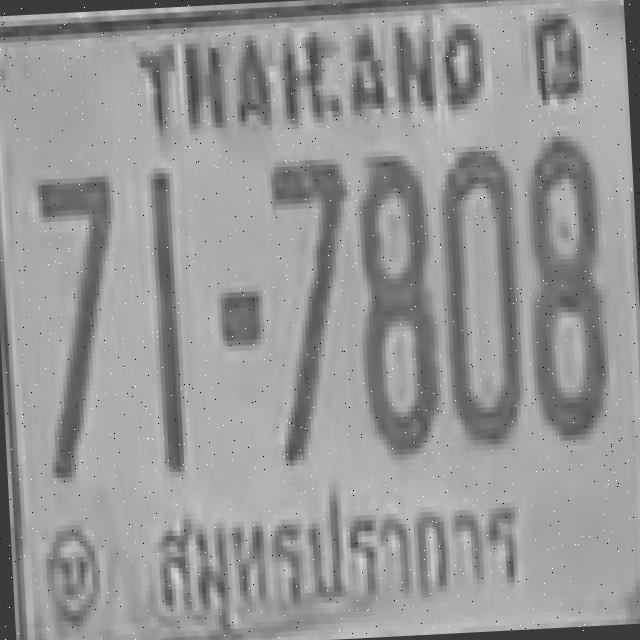0: (436, 144, 522, 442)
1: (129, 159, 211, 496)
7: (266, 154, 357, 456), (33, 170, 124, 468), (33, 170, 122, 430), (266, 154, 353, 370), (34, 171, 118, 361)
8: (347, 149, 438, 451), (518, 134, 608, 436)
SamutPrakan: (142, 469, 540, 640)
